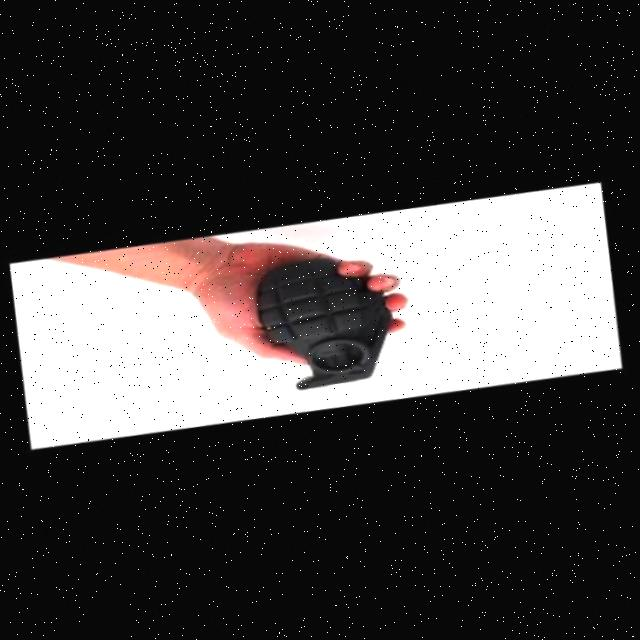grenade: (242, 232, 417, 406)
